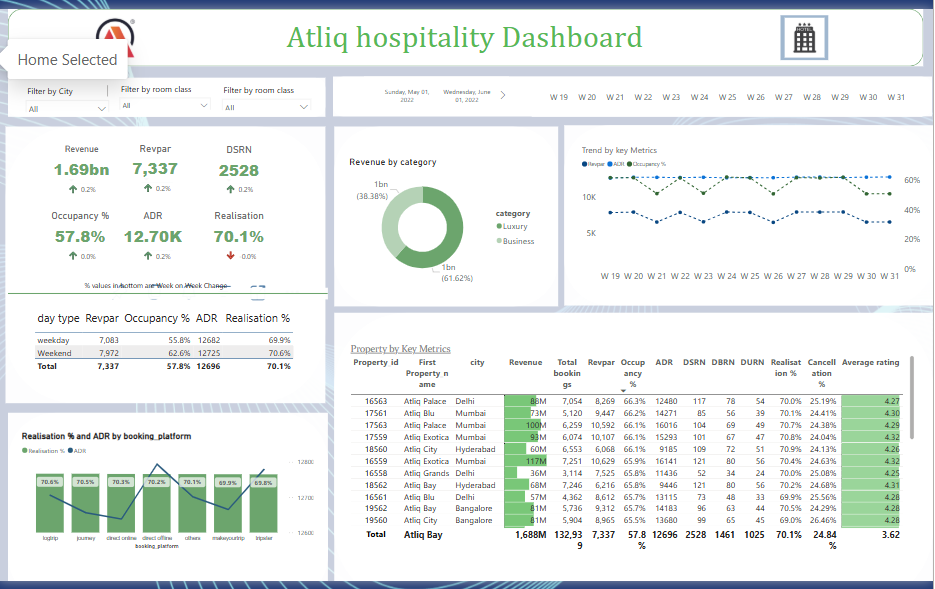

Layout of this report page (visuals, bound fields, positions):
{"tool":"powerbi","page":{"name":"Home","canvas":[1800,1100],"ordinal":2},"visuals":[{"type":"shape","box":[646.9,585.7,1153.1,559.2],"z":0},{"type":"shape","box":[1089.8,224.5,710.2,346.9],"z":1000},{"type":"shape","box":[647,226.7,431.3,346.5],"z":2000},{"type":"shape","box":[18.4,777.6,616.3,367.3],"z":3000},{"type":"shape","box":[14.7,226.7,615.6,532.7],"z":4000},{"type":"shape","box":[646.2,130.8,1153.8,76.9],"z":5000},{"type":"shape","box":[19.2,132.7,611.5,75],"z":6000},{"type":"pivotTable","title":"Property by Key Metrics","fields":{"Rows":["dim_hotels.property_id"],"Values":["Min(dim_hotels.Property_name)","Min(dim_hotels.city)","dim_date.Revenue","dim_date.total bookings","dim_date.Revpar","dim_date.Occupancy %","dim_date.ADR","dim_date.DSRN","dim_date.DBRN","dim_date.DURN","dim_date.Realisation %","dim_date.Cancellation %"]},"box":[678.3,643.3,1085.6,401.8],"z":7000},{"type":"slicer","fields":{"Values":["dim_hotels.City"]},"box":[44.2,141.9,180.6,57.1],"z":8000},{"type":"slicer","fields":{"Values":["dim_date.mmm yy"]},"box":[704.1,130.9,278.3,71.9],"z":9000},{"type":"slicer","fields":{"Values":["dim_rooms.room_class"]},"box":[224.9,138.2,195.4,57.1],"z":10000},{"type":"slicer","fields":{"Values":["dim_rooms.room_class"]},"box":[420.2,140.1,191.7,55.3],"z":11000},{"type":"donutChart","fields":{"Category":["dim_hotels.category"],"Y":["dim_date.Revenue"]},"box":[672.8,283.8,377.9,252.5],"z":12000},{"type":"lineChart","title":"Trend by key Metrics","fields":{"Category":["dim_date.mmm yy.Variation.Date Hierarchy.Year","dim_date.mmm yy.Variation.Date Hierarchy.Month","dim_date.week no"],"Y":["dim_date.Revpar","dim_date.ADR"],"Y2":["dim_date.Occupancy %"]},"box":[1118.8,259.9,661.7,276.5],"z":13000},{"type":"lineStackedColumnComboChart","fields":{"Category":["fact_bookings.booking_platform"],"Y":["dim_date.Realisation %"],"Y2":["dim_date.ADR"]},"box":[40.5,811,571.4,234.1],"z":14000},{"type":"tableEx","fields":{"Values":["dim_date.day type","dim_date.Revpar","dim_date.Occupancy %","dim_date.ADR","dim_date.Realisation %"]},"box":[64.5,573.2,532.7,140.1],"z":15000},{"type":"slicer","fields":{"Values":["dim_date.week no"]},"box":[1028.8,132.7,751.9,75],"z":16000},{"type":"tableEx","fields":{"Values":["dim_date.Occupancy WoW change %"]},"box":[125,431.3,75.6,60.8],"z":17000},{"type":"tableEx","fields":{"Values":["dim_date.Revenue WoW change %"]},"box":[429.5,304.1,81.1,60.8],"z":18000},{"type":"tableEx","fields":{"Values":["dim_date.ADR WoW change %"]},"box":[269.1,431.3,82.9,70],"z":19000},{"type":"tableEx","fields":{"Values":["dim_date.Realisation WoW change %"]},"box":[429.1,431.3,84.8,66.4],"z":20000},{"type":"tableEx","fields":{"Values":["dim_date.Revenue WoW change %"]},"box":[125.3,304.1,99.5,60.8],"z":21000},{"type":"card","title":"Revenue","fields":{"Values":["dim_date.Revenue"]},"box":[88.3,260.3,143.8,79.3],"z":22000},{"type":"tableEx","fields":{"Values":["dim_date.Revenue WoW change %"]},"box":[269.1,300.4,82.9,64.5],"z":23000},{"type":"card","title":"Revpar","fields":{"Values":["dim_date.Revpar"]},"box":[231.1,256.6,143.8,79.3],"z":24000},{"type":"card","title":"DSRN","fields":{"Values":["dim_date.DSRN"]},"box":[392.6,259.9,143.8,79.3],"z":25000},{"type":"card","title":"Occupancy %","fields":{"Values":["dim_date.Occupancy %"]},"box":[87.4,387.4,143.8,79.3],"z":26000},{"type":"card","title":"ADR","fields":{"Values":["dim_date.ADR"]},"box":[225.6,387.4,143.8,79.3],"z":27000},{"type":"card","title":"Realisation","fields":{"Values":["dim_date.Realisation %"]},"box":[393.3,387.4,143.8,79.3],"z":28000},{"type":"shape","box":[18.4,536.4,615.6,22.1],"z":29000},{"type":"textbox","box":[162.2,517.9,302.3,29.5],"z":30000},{"type":"shape","box":[18.4,0,1762.1,110.6],"z":31000},{"type":"textbox","box":[536.4,11.1,724.4,86.6],"z":32000},{"type":"image","box":[158.5,11.1,134.6,86.6],"z":33000},{"type":"image","box":[1505.9,11.1,92.2,86.6],"z":34000}]}

Visuals, with their boxes in screenshot pixels (x1, y1, x2, y2), scaled from the page's 1800x1100 canvas onto the 935x589 screenshot:
shape: <box>336,314,934,588</box>
shape: <box>566,120,934,306</box>
shape: <box>336,121,560,307</box>
shape: <box>10,416,330,588</box>
shape: <box>8,121,327,407</box>
shape: <box>336,70,934,111</box>
shape: <box>10,71,328,111</box>
"Property by Key Metrics" pivotTable: <box>352,344,916,560</box>
slicer - dim_hotels.City: <box>23,76,117,107</box>
slicer - dim_date.mmm yy: <box>366,70,510,109</box>
slicer - dim_rooms.room_class: <box>117,74,218,105</box>
slicer - dim_rooms.room_class: <box>218,75,318,105</box>
donutChart - dim_hotels.category x dim_date.Revenue: <box>349,152,546,287</box>
"Trend by key Metrics" lineChart: <box>581,139,925,287</box>
lineStackedColumnComboChart - fact_bookings.booking_platform x dim_date.Realisation %: <box>21,434,318,560</box>
tableEx - dim_date.day type x dim_date.Revpar: <box>34,307,310,382</box>
slicer - dim_date.week no: <box>534,71,925,111</box>
tableEx - dim_date.Occupancy WoW change %: <box>65,231,104,263</box>
tableEx - dim_date.Revenue WoW change %: <box>223,163,265,195</box>
tableEx - dim_date.ADR WoW change %: <box>140,231,183,268</box>
tableEx - dim_date.Realisation WoW change %: <box>223,231,267,266</box>
tableEx - dim_date.Revenue WoW change %: <box>65,163,117,195</box>
"Revenue" card: <box>46,139,121,182</box>
tableEx - dim_date.Revenue WoW change %: <box>140,161,183,195</box>
"Revpar" card: <box>120,137,195,180</box>
"DSRN" card: <box>204,139,279,182</box>
"Occupancy %" card: <box>45,207,120,250</box>
"ADR" card: <box>117,207,192,250</box>
"Realisation" card: <box>204,207,279,250</box>
shape: <box>10,287,329,299</box>
textbox: <box>84,277,241,293</box>
shape: <box>10,0,925,59</box>
textbox: <box>279,6,655,52</box>
image: <box>82,6,152,52</box>
image: <box>782,6,830,52</box>
